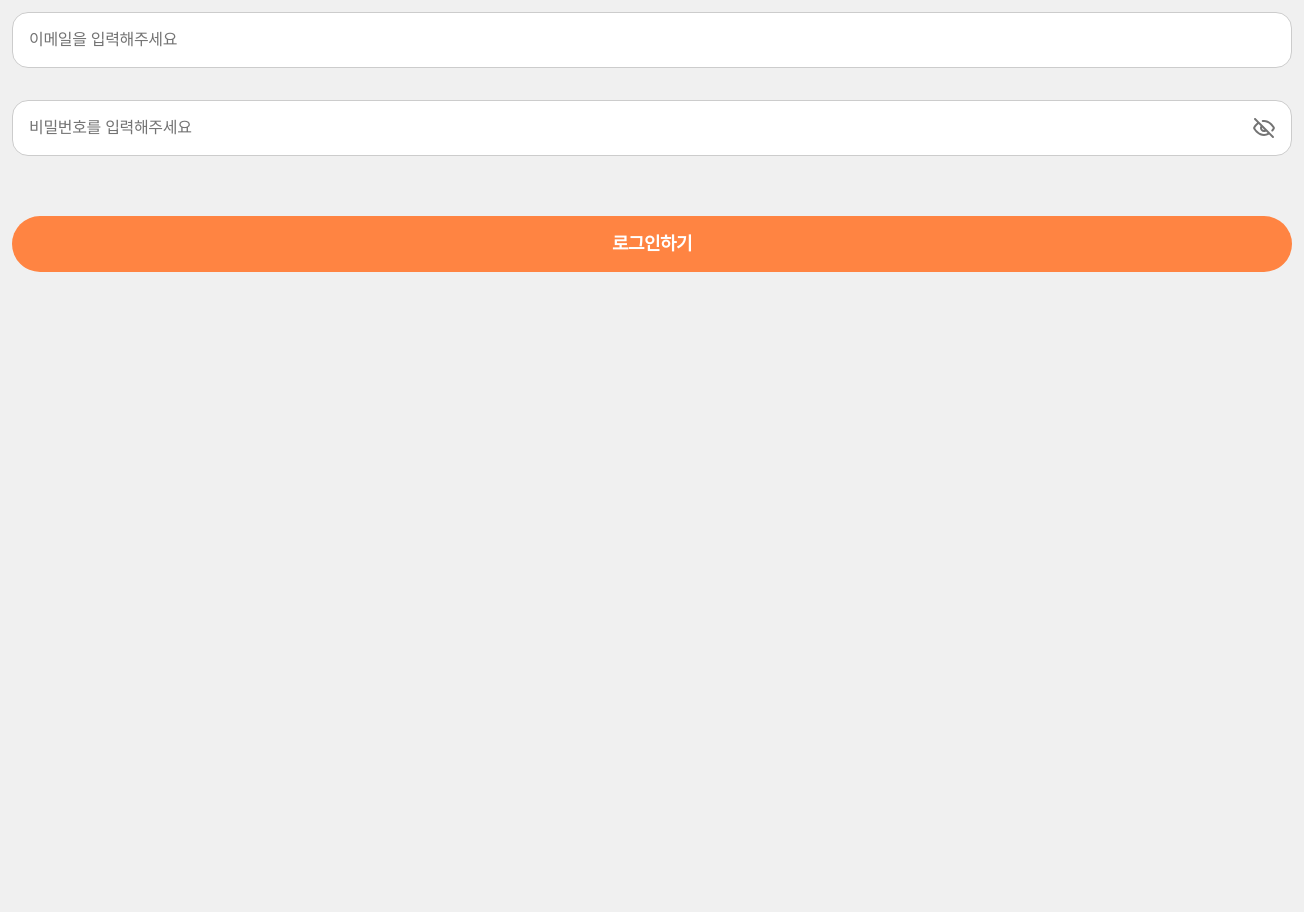
Test: LoginForm › 그 밖의 실패는 토스트로 알린다
This screenshot has width=1304, height=912.
Type "user@example.com" into the field labelled "이메일". click: (652, 40)
box: [12,12,1292,68]
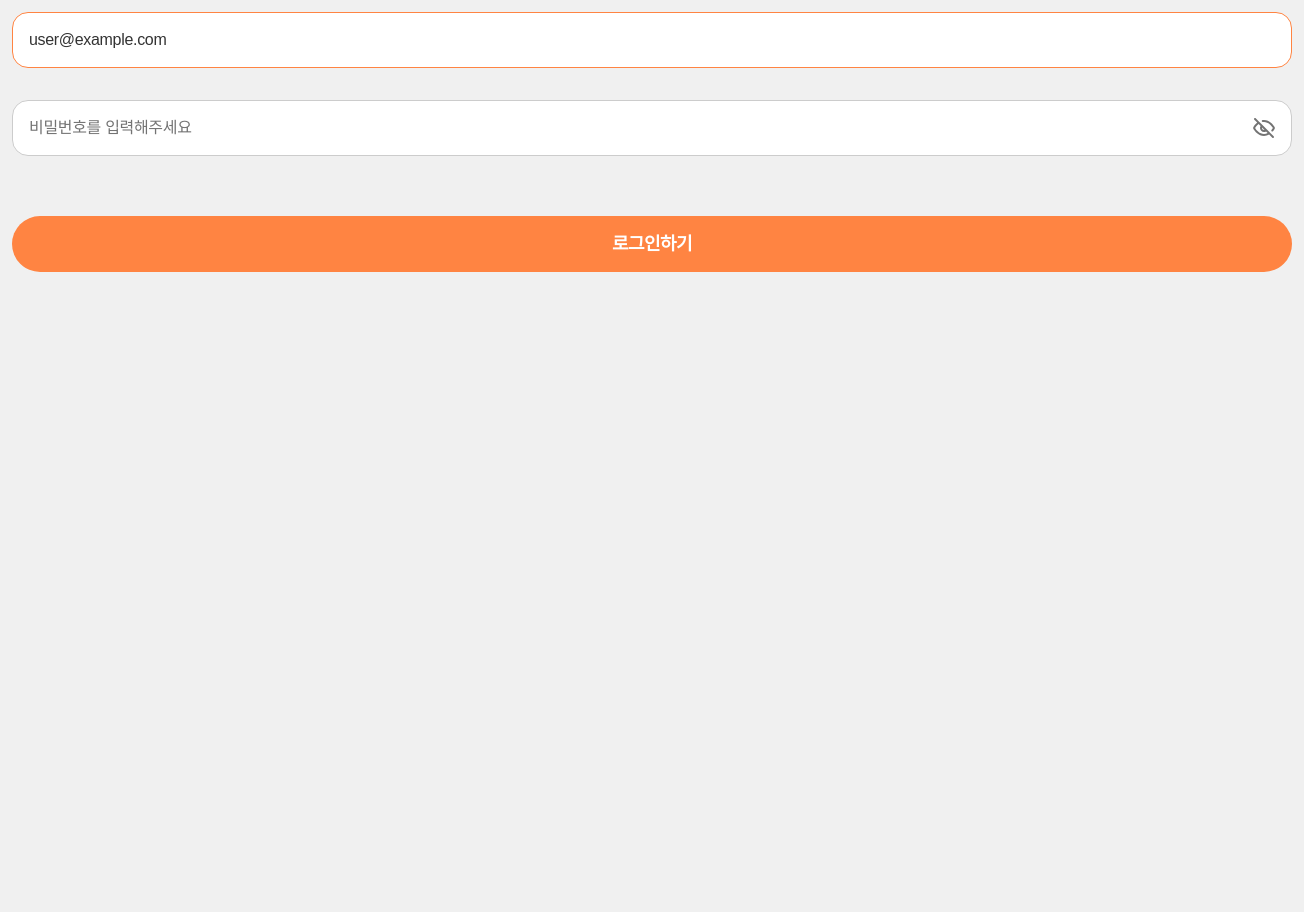
Type "password123" into the password field labelled "비밀번호". click: (652, 128)
box: [12,100,1292,156]
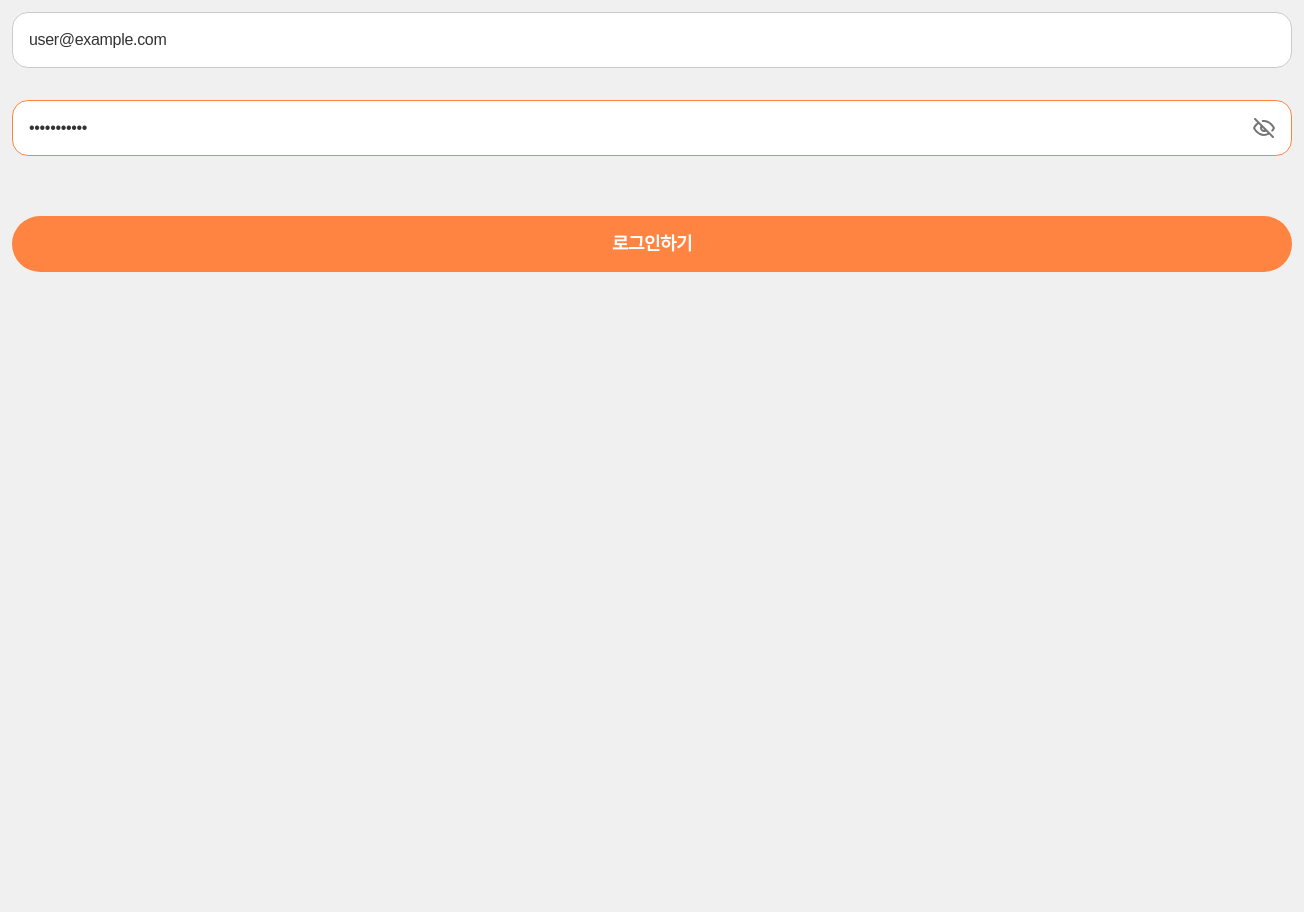
Click the button "로그인하기". click: (652, 244)
box: [12,216,1292,272]
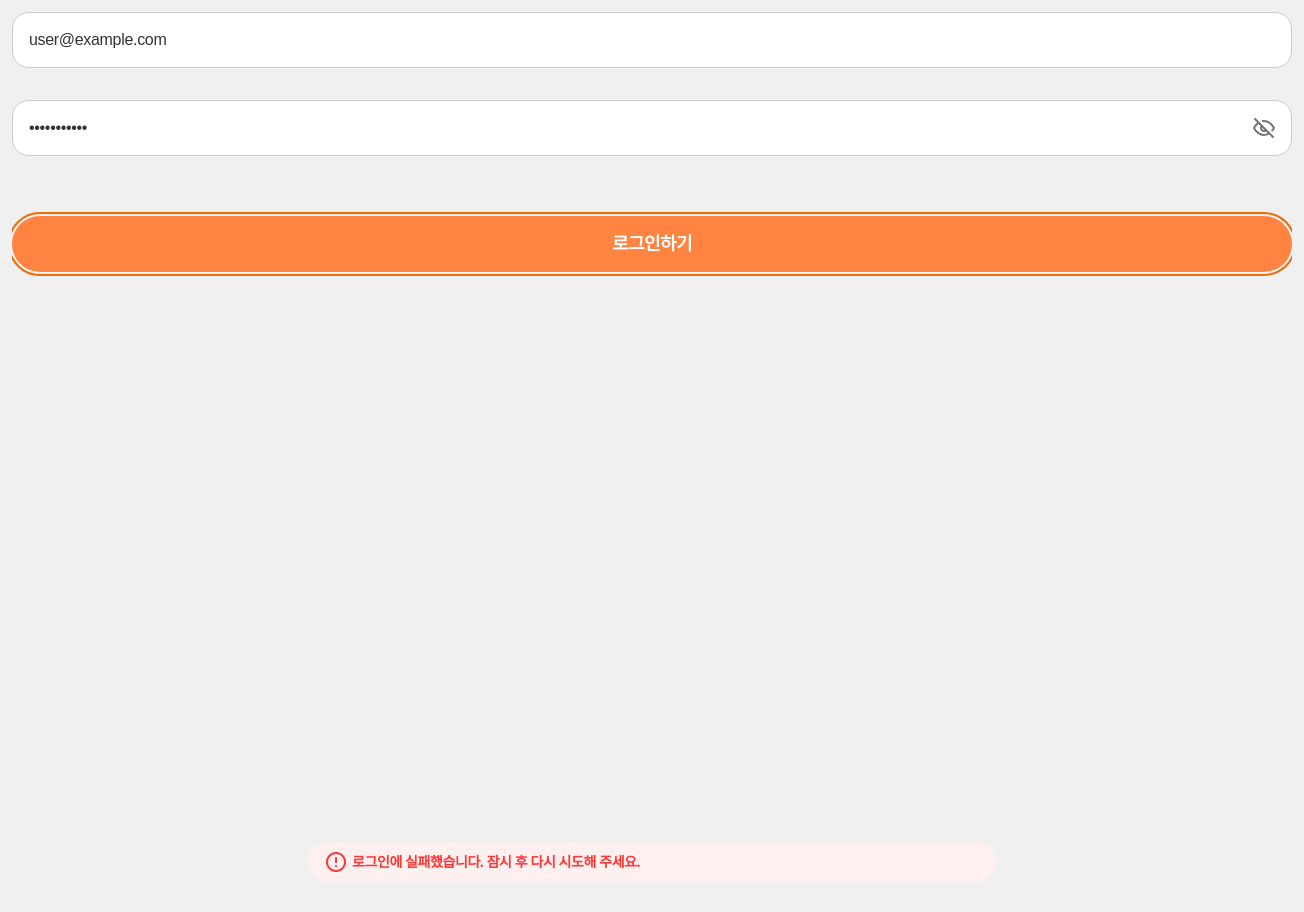
Result: the text "로그인에 실패했습니다. 잠시 후 다시 시도해 주세요." is shown at [352,852,640,872]
